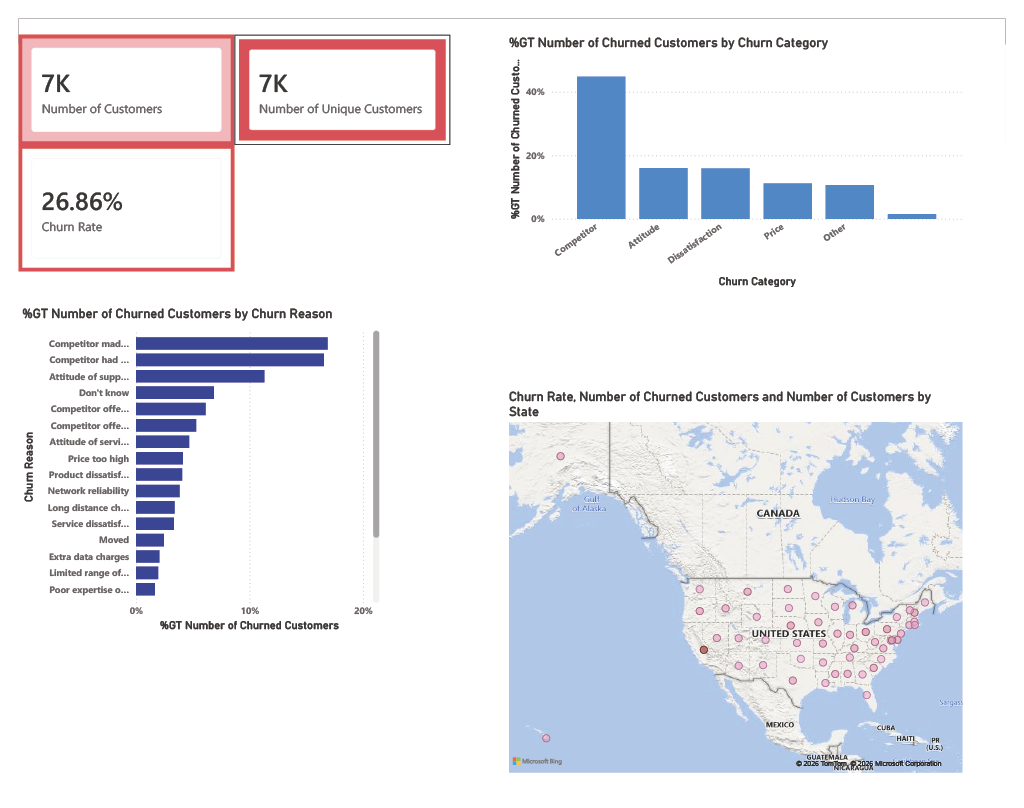

The page's visual inventory and layout, read from the dashboard file:
{"tool":"powerbi","page":{"name":"Churn Rate and Reasons","canvas":[1280,720],"ordinal":0},"visuals":[{"type":"cardVisual","fields":{"Data":["_Measure.Churn Rate"]},"box":[0,141.7,280,165],"z":0},{"type":"barChart","fields":{"Category":["Churn_fact.Churn Reason"],"Y":["Divide(_Measure.Number of Churned Customers, ScopedEval(_Measure.Number of Churned Customers, []))"]},"box":[0,316.9,559.8,384.1],"z":1000},{"type":"columnChart","fields":{"Category":["Churn_fact.Churn Category"],"Y":["_Measure.Number of Churned Customers"]},"box":[681.9,8.2,568,289.5],"z":2000},{"type":"map","fields":{"Category":["Churn_fact.State"]},"box":[651.7,316.9,598.2,382.8],"z":3000},{"type":"cardVisual","fields":{"Data":["_Measure.Number of Customers"]},"box":[0,0,280,141.7],"z":4000},{"type":"cardVisual","fields":{"Data":["_Measure.Number of mUnique Customers"]},"box":[280,0,280,141.7],"z":5000},{"type":"textbox","box":[348.5,179.7,279.9,89.2],"z":5001}]}

Visuals, with their boxes on the page's 1280x720 design canvas (x1, y1, x2, y2). These are canvas units, not pixel positions in the 1024x808 screenshot, which may show the page scaled, cropped or inside an application window:
cardVisual - _Measure.Churn Rate: l=0, t=142, r=280, b=307
barChart - Churn_fact.Churn Reason x Divide(_Measure.Number of Churned Customers, ScopedEval(_Measure.Number of Churned Customers, [])): l=0, t=317, r=560, b=701
columnChart - Churn_fact.Churn Category x _Measure.Number of Churned Customers: l=682, t=8, r=1250, b=298
map - Churn_fact.State: l=652, t=317, r=1250, b=700
cardVisual - _Measure.Number of Customers: l=0, t=0, r=280, b=142
cardVisual - _Measure.Number of mUnique Customers: l=280, t=0, r=560, b=142
textbox: l=348, t=180, r=628, b=269
